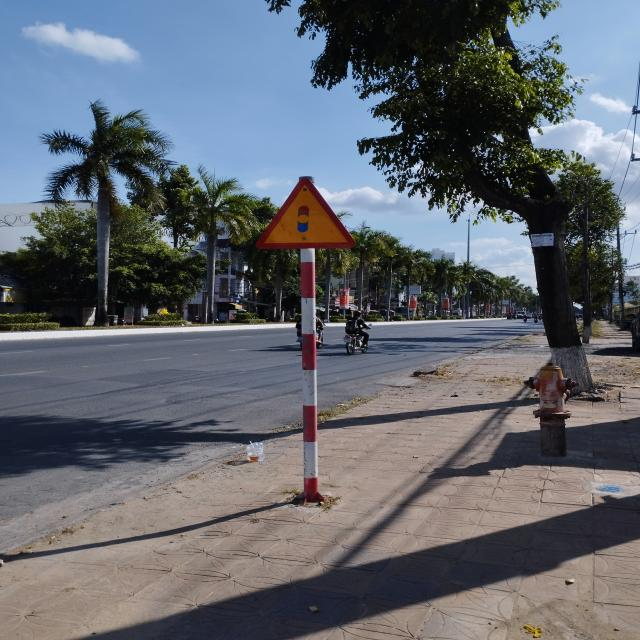Duong_Co_Go_Giam_Toc: (255, 175, 356, 249)
